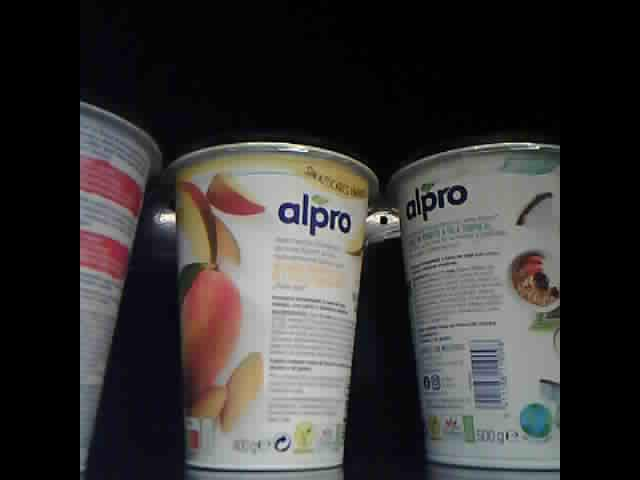alpro: (162, 131, 383, 475), (387, 135, 560, 469), (80, 97, 162, 476)
